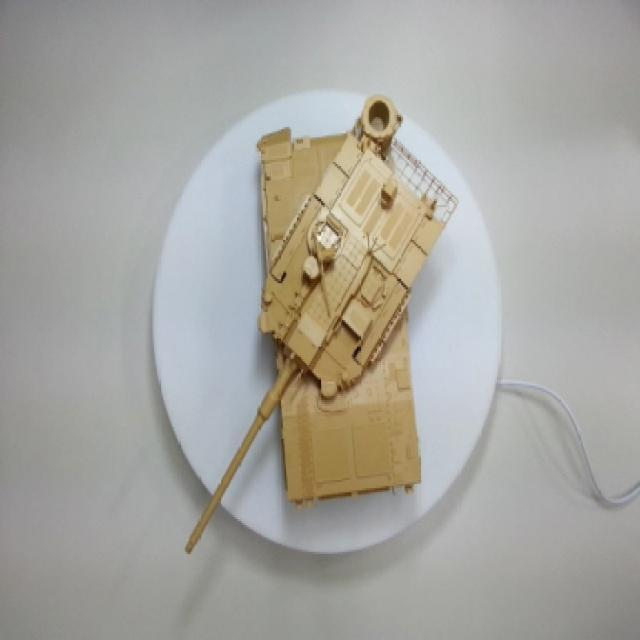korea tank: (154, 74, 497, 609)
